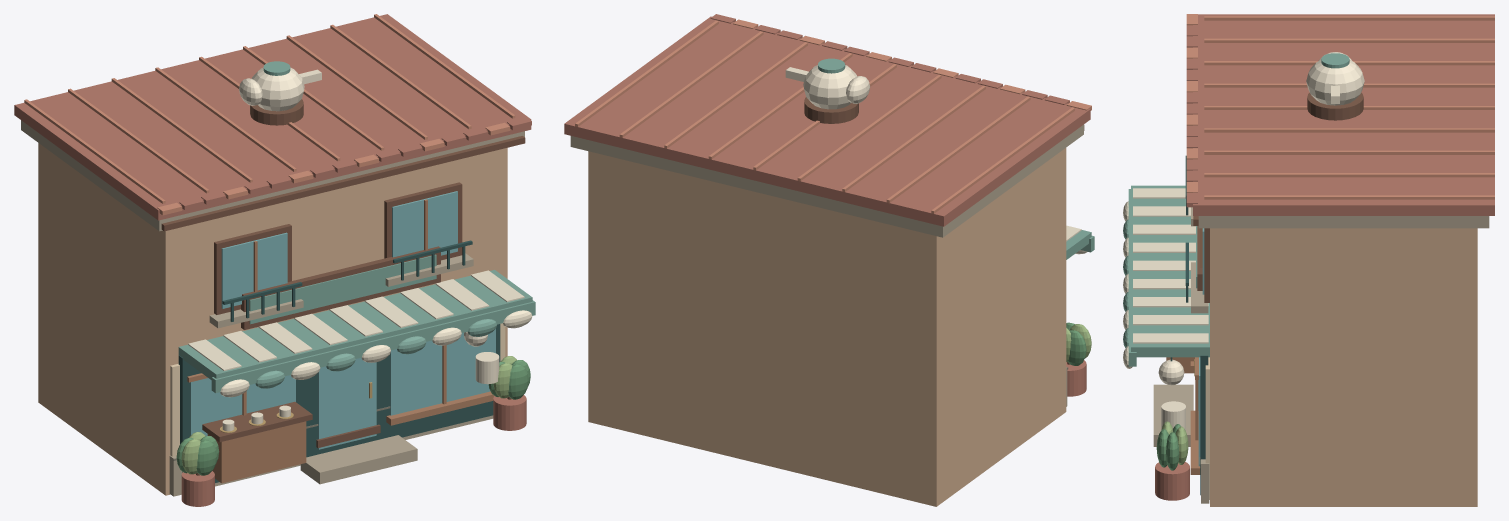
Rendered from nantou_tea_house.glb.
The picture shows the model from 3 angles, left to right: view 1: azimuth 30°, elevation 25°; view 2: azimuth 150°, elevation 25°; view 3: azimuth 270°, elevation 25°; orthographic projection. The views are drawn at different scales.
Visible parts, largest first — view 1: old_town_main_plaster, roof_clay_field, awning_canvas_main, shop_window_right, shopfront_dark_base, door_glazing, display_counter, shop_sign_border, upper_glazing_west, upper_glazing_east, roof_shadow_band, customer_step (+37 smaller); view 2: old_town_main_plaster, roof_clay_field, roof_cornice, tea_pot_roof_body, roof_tile_ridge_2, roof_tile_ridge_6, roof_tile_ridge_14, roof_tile_ridge_12, roof_tile_ridge_0, roof_tile_ridge_4, roof_tile_ridge_16, tea_pot_roof_base (+2 smaller); view 3: old_town_main_plaster, roof_clay_field, awning_canvas_main, roof_cornice, tea_pot_roof_body, roof_tile_ridge_0, roof_tile_ridge_2, roof_tile_ridge_10, roof_tile_ridge_12, roof_tile_ridge_14, roof_tile_ridge_16, customer_step (+23 smaller).
Boxes of the visible parts, left/top/right/bottom form: old_town_main_plaster: left=38, top=143, right=507, bottom=495; roof_clay_field: left=14, top=14, right=531, bottom=220; awning_canvas_main: left=178, top=270, right=532, bottom=379; shop_window_right: left=390, top=329, right=495, bottom=415; shopfront_dark_base: left=178, top=324, right=500, bottom=482; door_glazing: left=318, top=357, right=376, bottom=449; display_counter: left=207, top=421, right=306, bottom=483; shop_sign_border: left=249, top=254, right=436, bottom=324; upper_glazing_west: left=221, top=232, right=287, bottom=308; upper_glazing_east: left=392, top=191, right=457, bottom=257; roof_shadow_band: left=161, top=136, right=525, bottom=231; customer_step: left=300, top=435, right=417, bottom=484; old_town_main_plaster: left=588, top=148, right=1066, bottom=506; roof_clay_field: left=564, top=16, right=1090, bottom=226; roof_cornice: left=570, top=124, right=1083, bottom=237; tea_pot_roof_body: left=803, top=65, right=857, bottom=109; roof_tile_ridge_2: left=886, top=96, right=1030, bottom=204; roof_tile_ridge_6: left=797, top=75, right=941, bottom=181; roof_tile_ridge_14: left=619, top=31, right=763, bottom=137; roof_tile_ridge_12: left=664, top=42, right=807, bottom=148; roof_tile_ridge_0: left=931, top=107, right=1074, bottom=213; roof_tile_ridge_4: left=842, top=85, right=985, bottom=191; roof_tile_ridge_16: left=575, top=20, right=718, bottom=126; tea_pot_roof_base: left=804, top=97, right=858, bottom=123; old_town_main_plaster: left=1210, top=228, right=1477, bottom=506; roof_clay_field: left=1193, top=14, right=1494, bottom=215; awning_canvas_main: left=1131, top=185, right=1209, bottom=357; roof_cornice: left=1198, top=216, right=1489, bottom=228; tea_pot_roof_body: left=1306, top=59, right=1364, bottom=105; roof_tile_ridge_0: left=1204, top=16, right=1494, bottom=20; roof_tile_ridge_2: left=1204, top=38, right=1494, bottom=42; roof_tile_ridge_10: left=1204, top=128, right=1494, bottom=132; roof_tile_ridge_12: left=1204, top=150, right=1494, bottom=154; roof_tile_ridge_14: left=1204, top=173, right=1494, bottom=177; roof_tile_ridge_16: left=1204, top=195, right=1494, bottom=199; customer_step: left=1153, top=384, right=1193, bottom=446.
Size of the model in its own units: 8.02 by 7.05 by 6.6.
